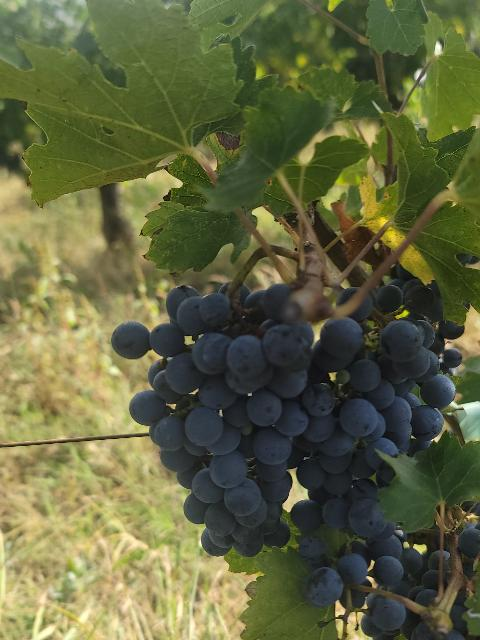grapes: (112, 286, 311, 558), (289, 314, 451, 640)
